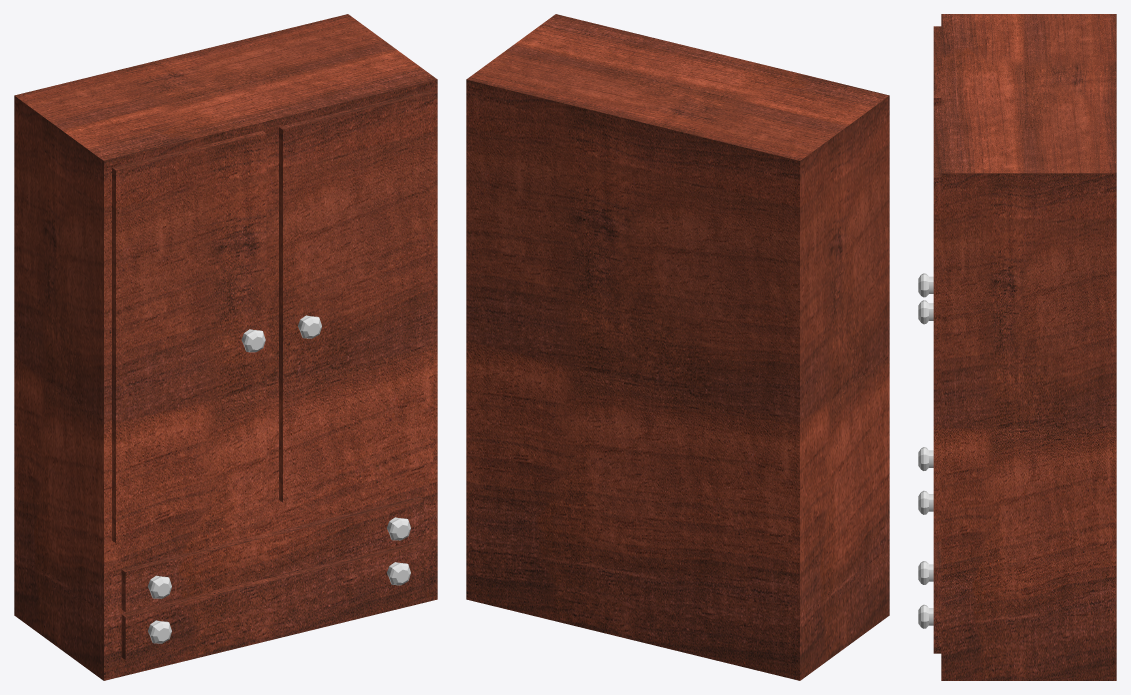
The model's file is szekreny.FBX.
The picture shows the model from 3 angles, left to right: view 1: azimuth 30°, elevation 25°; view 2: azimuth 150°, elevation 25°; view 3: azimuth 270°, elevation 25°; orthographic projection. The views are drawn at different scales.
Parts seen in each view (by area): view 1: Box001, Box003; view 2: Box001; view 3: Box001, Box003.
Part boxes in pixels (left/top/right/bottom): Box001: left=14, top=14, right=437, bottom=680; Box003: left=148, top=315, right=410, bottom=643; Box001: left=466, top=14, right=889, bottom=680; Box001: left=933, top=14, right=1116, bottom=680; Box003: left=918, top=273, right=933, bottom=628.
Size of the model in its own units: 63.09 by 93.87 by 33.17.
Materials: 1 (1 with a texture image).
